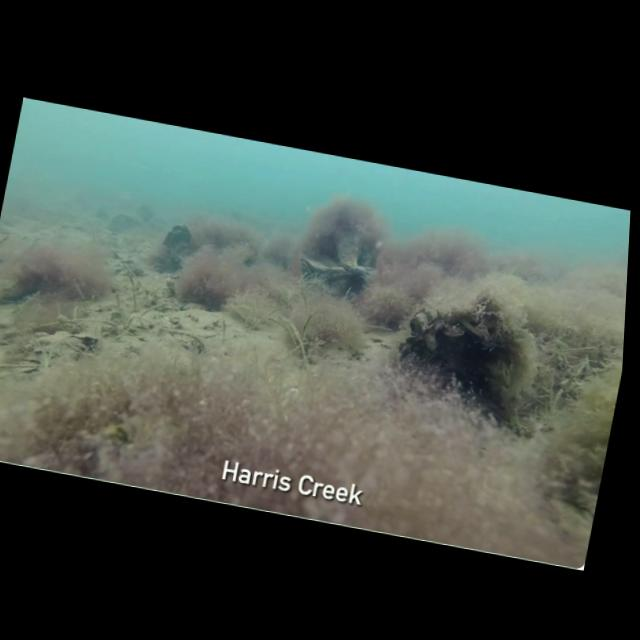Oyster-Closed: (338, 260, 370, 279), (458, 319, 485, 340)
Oyster-Indeterminate: (159, 220, 196, 267), (105, 210, 141, 238), (407, 305, 435, 338), (480, 340, 512, 361), (493, 383, 517, 408), (436, 347, 459, 370), (483, 313, 506, 336), (481, 358, 505, 379), (422, 331, 443, 353), (495, 358, 516, 380), (469, 374, 491, 395), (444, 325, 467, 344), (485, 379, 504, 397), (451, 362, 470, 377), (460, 355, 478, 370), (455, 340, 468, 357)
Oyster-Open: (297, 255, 346, 287)
